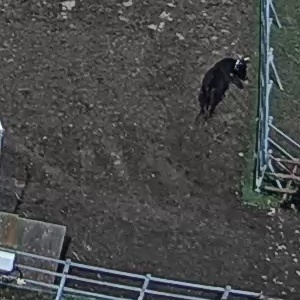cow: (187, 43, 256, 138)
